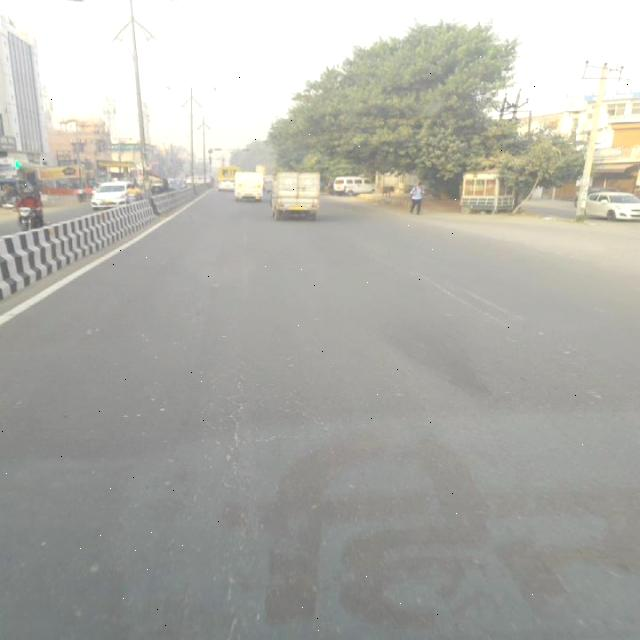D20: (175, 334, 341, 623)
